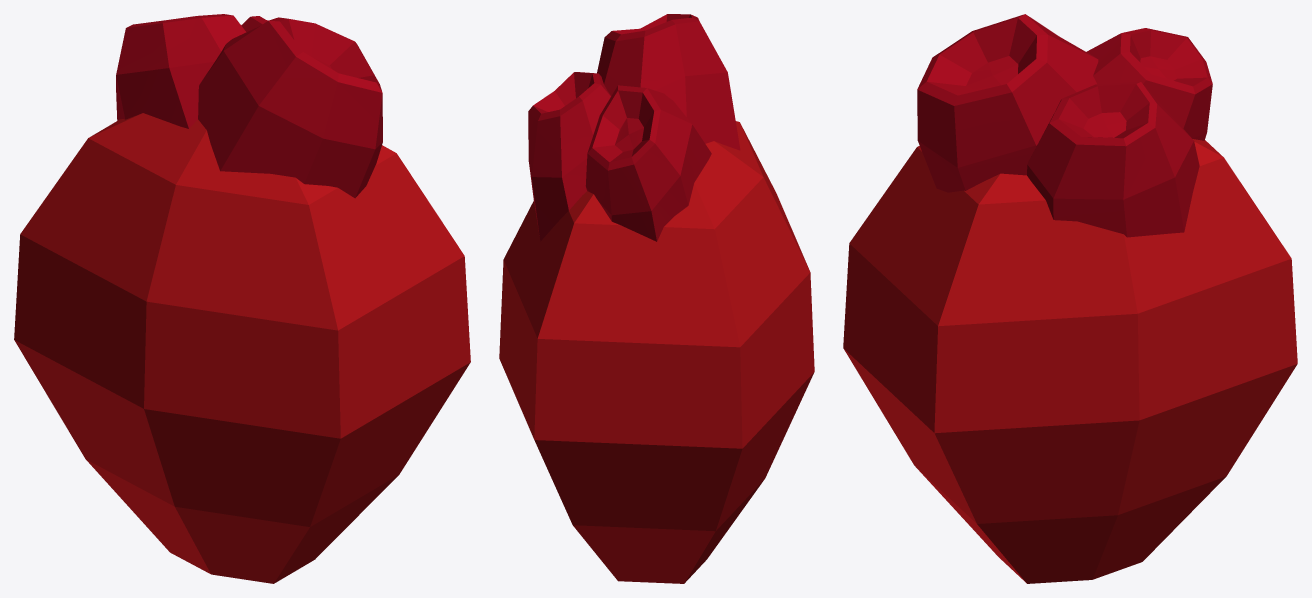
Rendered from corazonprueba.fbx.
The picture shows the model from 3 angles, left to right: view 1: azimuth 30°, elevation 25°; view 2: azimuth 150°, elevation 25°; view 3: azimuth 270°, elevation 25°; orthographic projection. The views are drawn at different scales.
Parts seen in each view (by area): view 1: Cube.001, Cube.002, Cube.004; view 2: Cube.001, Cube.004, Cube.002, Cube.003; view 3: Cube.001, Cube.002, Cube.003, Cube.004.
Boxes of the visible parts, <box> form: Cube.001: <box>14,113,470,583</box>; Cube.002: <box>198,17,382,198</box>; Cube.004: <box>116,14,246,128</box>; Cube.001: <box>499,121,814,583</box>; Cube.004: <box>585,85,711,241</box>; Cube.002: <box>597,14,740,150</box>; Cube.003: <box>528,72,611,241</box>; Cube.001: <box>843,139,1297,583</box>; Cube.002: <box>917,14,1098,192</box>; Cube.003: <box>1027,82,1199,237</box>; Cube.004: <box>1086,28,1212,140</box>.
Size of the model in its own units: 8.38 by 13.8 by 10.4.
